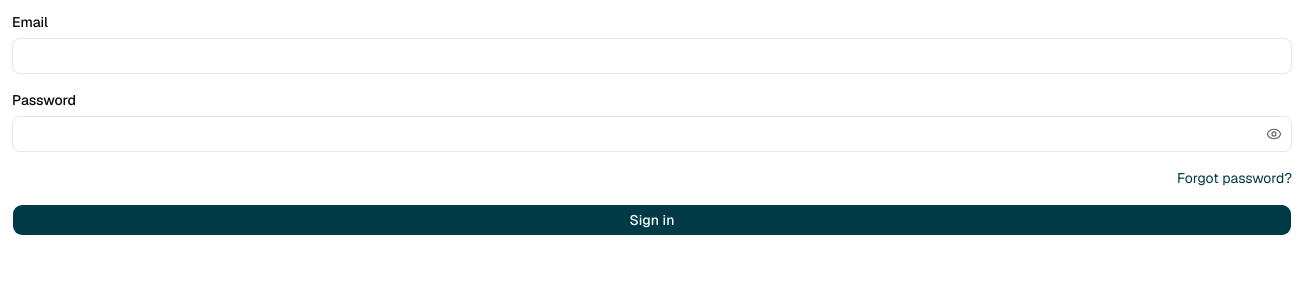
it: LoginForm › shows a generic error message on failed login without leaking which field was wrong
The width and height of the screenshot is (1304, 288).
In the field labelled "Email": (652, 56) [12,38,1292,74], type "test@example.com"
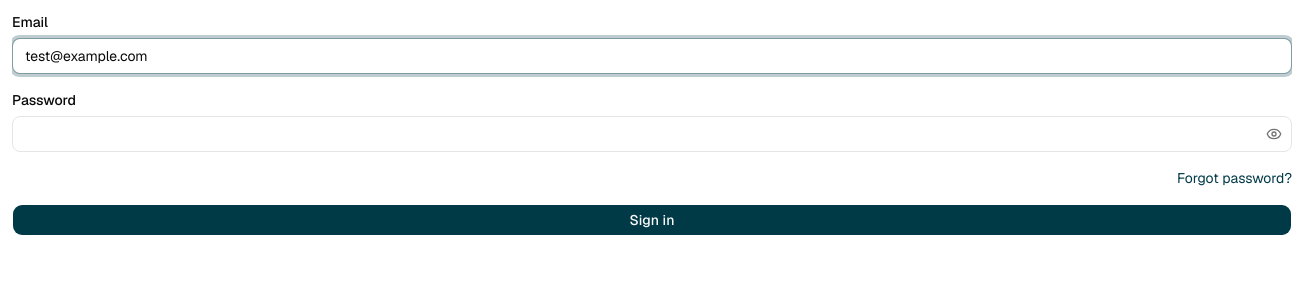
In the password field labelled "Password": (652, 134) [12,116,1292,152], type "wrong"
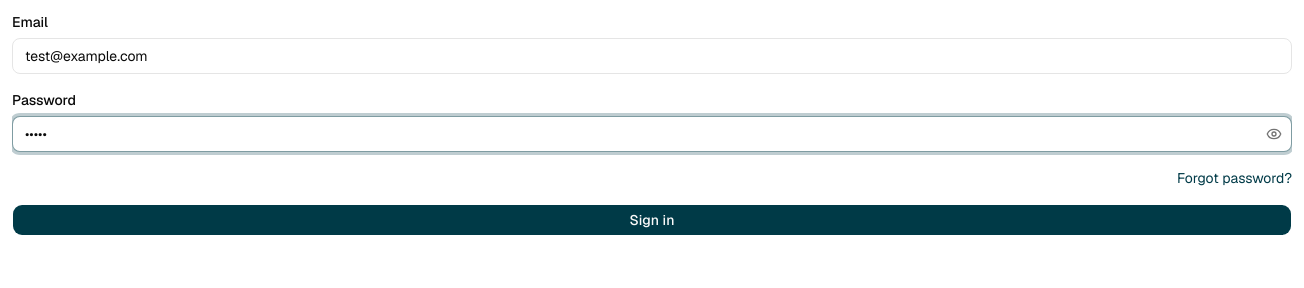
Click the button "Sign in": (652, 220) [12,204,1292,236]
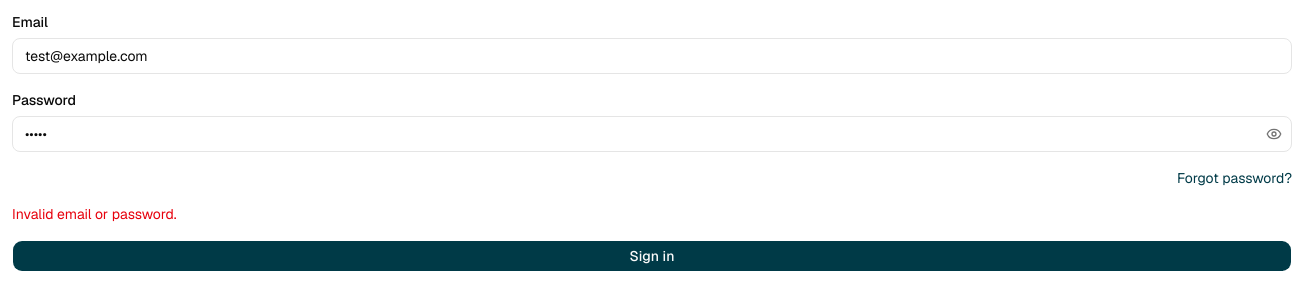
Check: the text "Invalid email or password." is shown, box [12,205,177,223]
